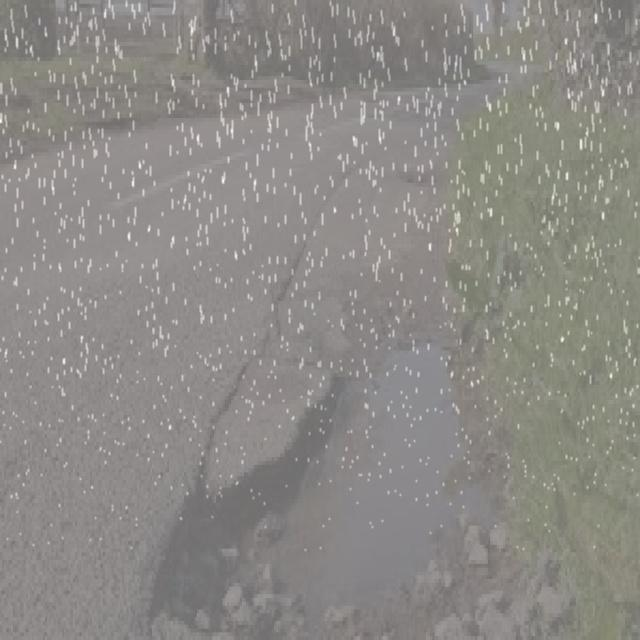Pothole: (147, 303, 508, 640)
